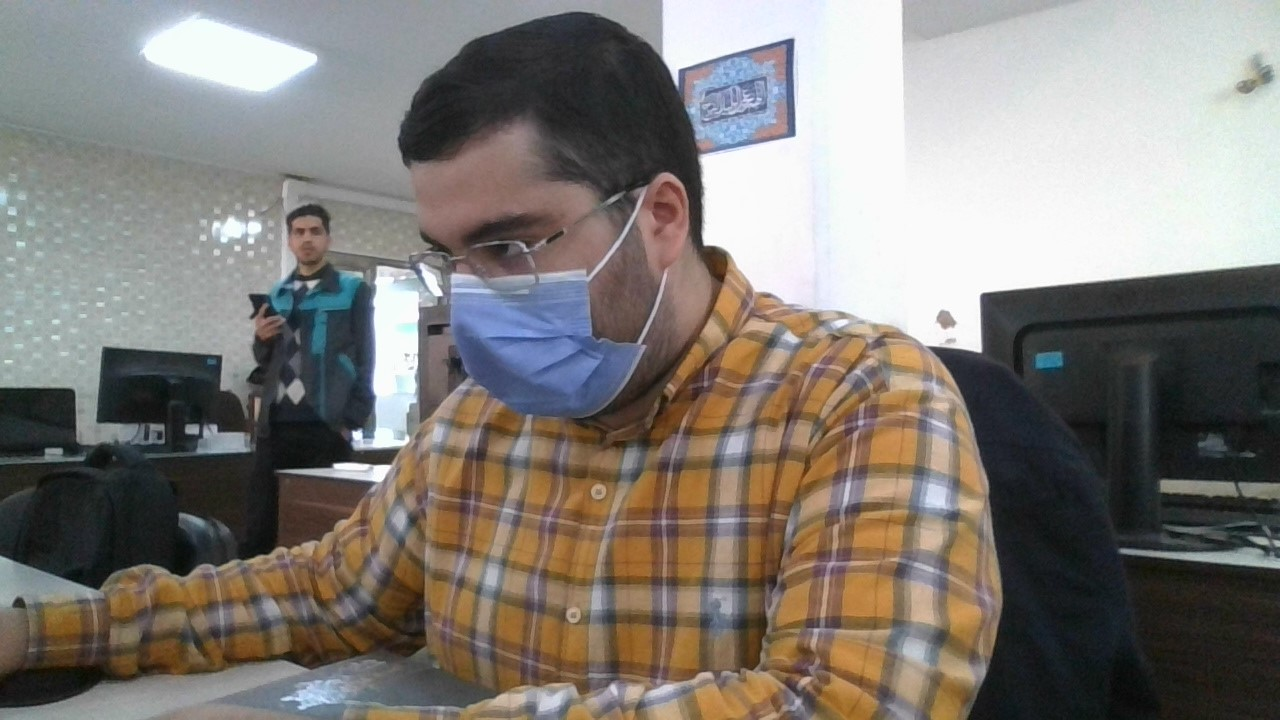Mask: (446, 272, 677, 420)
